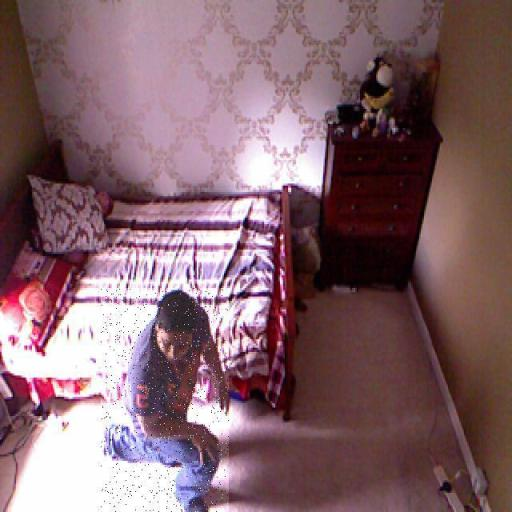Fall: (101, 288, 229, 512)
